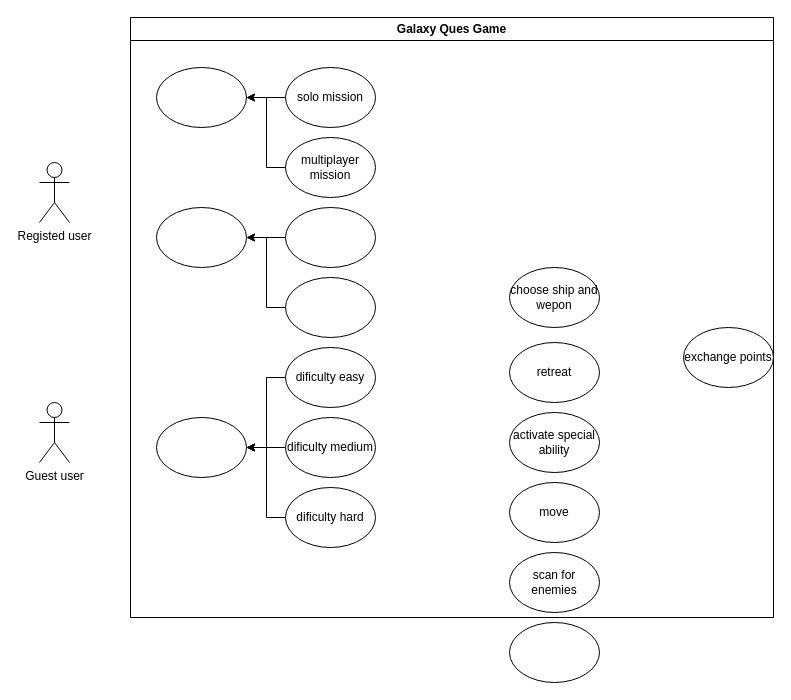
The diagram is 791 pixels wide and 700 high, and some of its shapes have lost their labels. The shapes that lost their labels are listed below. From the top down, each one's centre as x and y in pixels, then its label:
(x=201, y=97): embark on mission
(x=201, y=237): select faction
(x=330, y=237): join to United Earth Federation
(x=330, y=307): join to Nova Pirates
(x=201, y=447): choose dificulty
(x=554, y=652): attack
